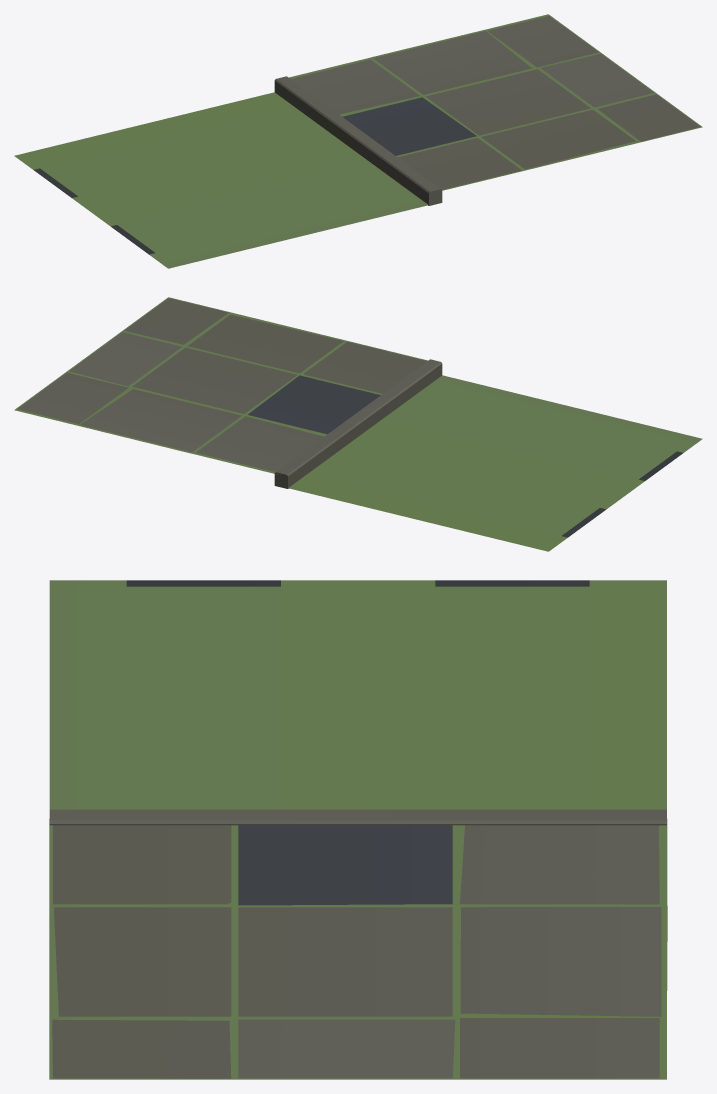
The model's file is Road_01.fbx.
3 renders of one model, top to bottom at view 1: azimuth 30°, elevation 25°; view 2: azimuth 150°, elevation 25°; view 3: azimuth 270°, elevation 25°, orthographic. The views are drawn at different scales.
Parts seen in each view (by area): view 1: Road_01; view 2: Road_01; view 3: Road_01.
Boxes of the visible parts, <box> form: Road_01: <box>14,14,702,268</box>; Road_01: <box>14,297,702,551</box>; Road_01: <box>49,580,667,1079</box>.
Bounding box in the file's own units: 6 × 0.15 × 3.01.
